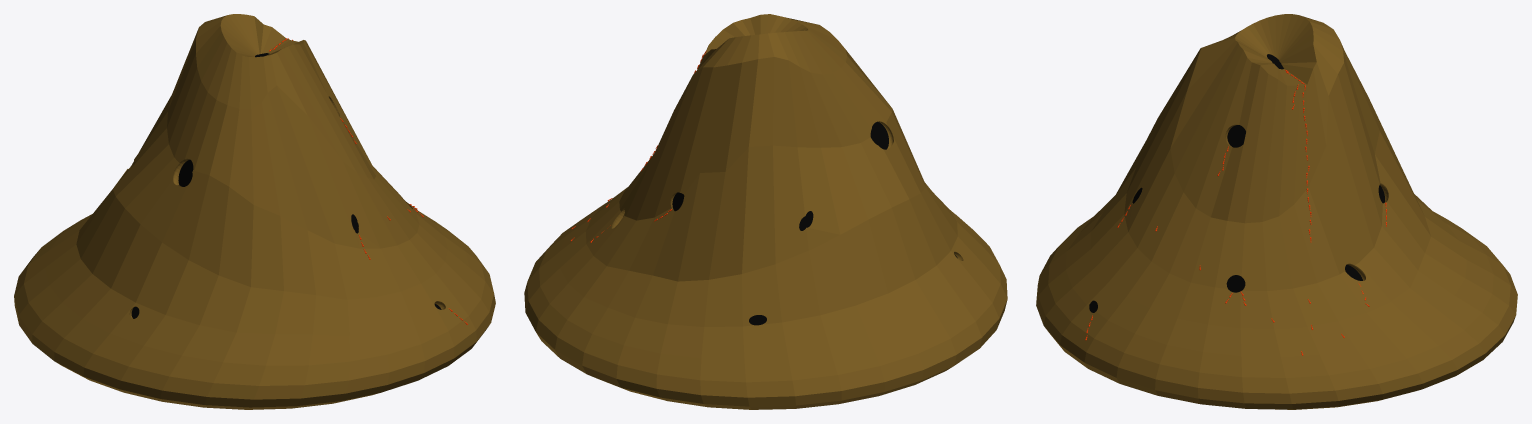
Rendered from Graham Rush _ Ant Hills.fbx.
3 views of the same model, side by side, from view 1: azimuth 30°, elevation 25°; view 2: azimuth 150°, elevation 25°; view 3: azimuth 270°, elevation 25° (orthographic).
Visible parts, largest first — view 1: Ant Colonie; view 2: Ant Colonie; view 3: Ant Colonie.
Part boxes in pixels (left/top/right/bottom): Ant Colonie: left=14, top=14, right=495, bottom=409; Ant Colonie: left=524, top=14, right=1007, bottom=409; Ant Colonie: left=1036, top=14, right=1517, bottom=409.
Bounding box in the file's own units: 198 × 140 × 200.
